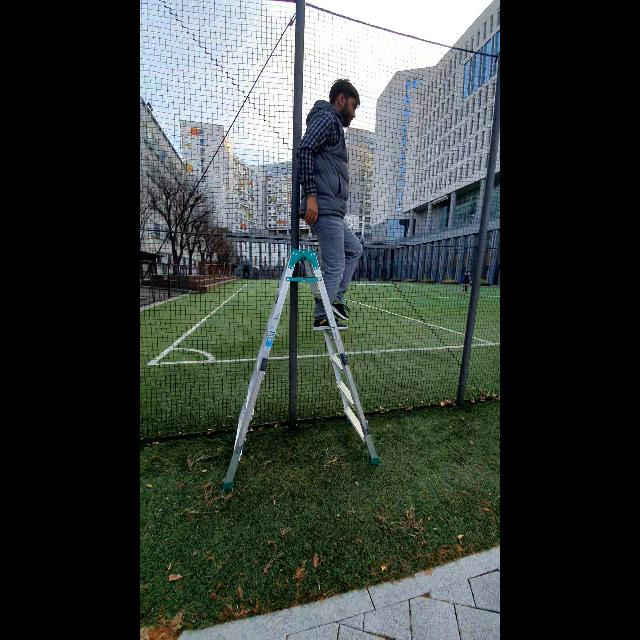hard hat: (214, 245, 382, 495)
vest: (293, 75, 367, 332)
